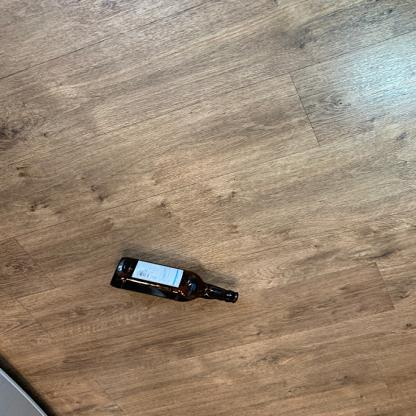trash: (110, 256, 244, 306)
